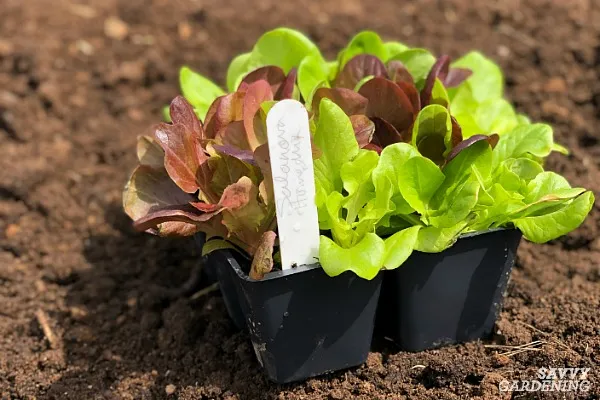lettuce: (115, 32, 583, 289)
